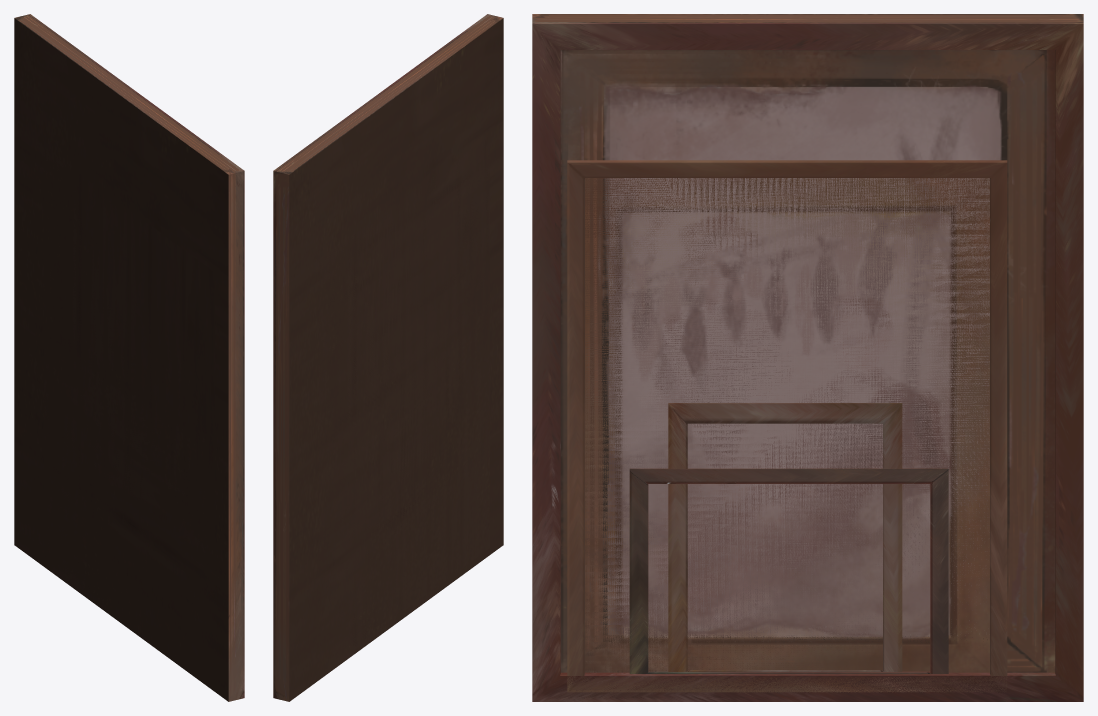
Rendered from Frame01.fbx.
The picture shows the model from 3 angles, left to right: view 1: azimuth 30°, elevation 25°; view 2: azimuth 150°, elevation 25°; view 3: azimuth 270°, elevation 25°; orthographic projection. The views are drawn at different scales.
Visible parts, largest first — view 1: Frame 2, Frame 1; view 2: Frame 2, Frame 1; view 3: Frame 2, Frame 1, Frame 4, Frame 3.
Part boxes in pixels (x1,y1,x2,y2): Frame 2: [14, 14, 244, 701]; Frame 1: [44, 147, 214, 626]; Frame 2: [273, 14, 503, 701]; Frame 1: [319, 136, 489, 657]; Frame 2: [532, 14, 1083, 701]; Frame 1: [567, 160, 1007, 692]; Frame 4: [668, 403, 902, 671]; Frame 3: [629, 468, 948, 673].
Bounding box in the file's own units: 0.0163 × 0.51 × 0.3758.
1 material, 1 textured.
